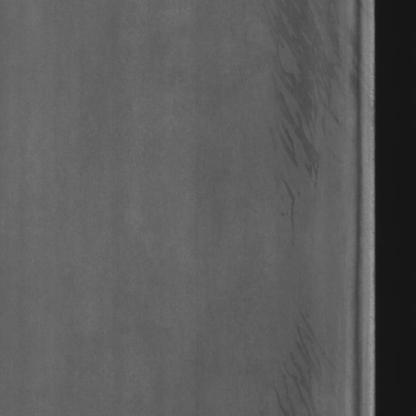water_spot: (265, 0, 350, 214), (249, 314, 326, 404)
